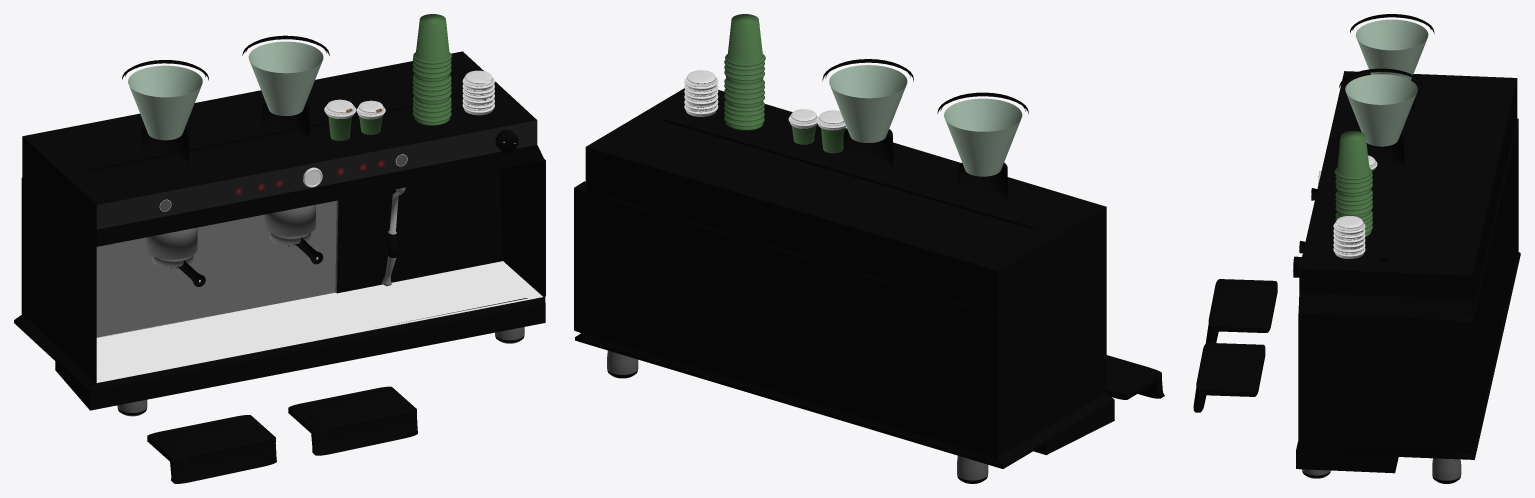
The model's file is CoffeeMachineLarge.fbx.
3 views of the same model, side by side, from view 1: azimuth 30°, elevation 25°; view 2: azimuth 150°, elevation 25°; view 3: azimuth 270°, elevation 25° (orthographic). The views are drawn at different scales.
Visible parts, largest first — view 1: Coffee Cups Empty, Cpffee Machine Coffee Mat2, Cpffee Machine Coffee Mat1, Coffee GrinderBeansBasket, Coffee GrinderBeansBasket2, CoffeeCups Stacked15, Coffee Machine Part1, Coffee Machine Part2, Coffee Grinder2, Coffee Grinder, Coffee Machine Throther, Coffee Machine Capsule Holder (+1 smaller); view 2: Coffee Cups Empty, Coffee GrinderBeansBasket, Coffee GrinderBeansBasket2, Cpffee Machine Coffee Mat1, CoffeeCups Stacked15, Coffee Grinder, Coffee Grinder2, Coffee Machine Legs2, Coffee Machine Legs3; view 3: Coffee Cups Empty, Coffee GrinderBeansBasket2, Cpffee Machine Coffee Mat2, Cpffee Machine Coffee Mat1, Coffee GrinderBeansBasket, CoffeeCups Stacked15, Coffee Grinder2, Coffee Machine Legs3, CoffeeCupLid Stacked5, Coffee Grinder.
Part boxes in pixels (box(x1,y1,x2,y2)): Coffee Cups Empty: box(14, 51, 545, 410); Cpffee Machine Coffee Mat2: box(288, 386, 417, 455); Cpffee Machine Coffee Mat1: box(147, 415, 276, 483); Coffee GrinderBeansBasket: box(128, 65, 202, 140); Coffee GrinderBeansBasket2: box(248, 41, 323, 115); CoffeeCups Stacked15: box(413, 14, 451, 64); Coffee Machine Part1: box(145, 227, 197, 259); Coffee Machine Part2: box(264, 204, 315, 236); Coffee Grinder2: box(242, 35, 329, 139); Coffee Grinder: box(122, 60, 208, 163); Coffee Machine Throther: box(382, 187, 405, 286); Coffee Machine Capsule Holder: box(270, 232, 323, 264); Coffee Cups Empty: box(574, 88, 1114, 468); Coffee GrinderBeansBasket: box(944, 98, 1022, 176); Coffee GrinderBeansBasket2: box(829, 65, 907, 142); Cpffee Machine Coffee Mat1: box(1106, 355, 1164, 399); CoffeeCups Stacked15: box(725, 14, 765, 66); Coffee Grinder: box(937, 92, 1028, 200); Coffee Grinder2: box(822, 59, 913, 167); Coffee Machine Legs2: box(957, 455, 988, 483); Coffee Machine Legs3: box(607, 350, 638, 378); Coffee Cups Empty: box(1296, 71, 1520, 473); Coffee GrinderBeansBasket2: box(1345, 74, 1417, 146); Cpffee Machine Coffee Mat2: box(1193, 343, 1265, 412); Cpffee Machine Coffee Mat1: box(1205, 279, 1277, 343); Coffee GrinderBeansBasket: box(1355, 19, 1428, 80); CoffeeCups Stacked15: box(1334, 131, 1371, 179); Coffee Grinder2: box(1339, 68, 1423, 166); Coffee Machine Legs3: box(1432, 458, 1461, 483); CoffeeCupLid Stacked5: box(1333, 216, 1365, 234); Coffee Grinder: box(1350, 14, 1434, 111).
Bounding box in the file's own units: 132 × 92.9 × 85.3.
